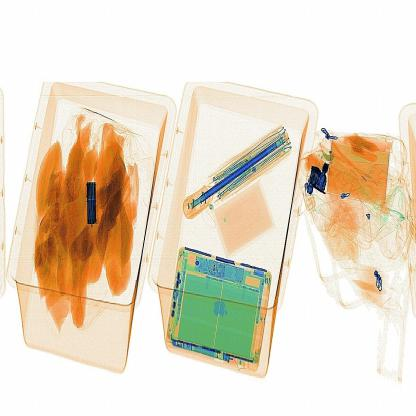scissors: (77, 169, 105, 237)
